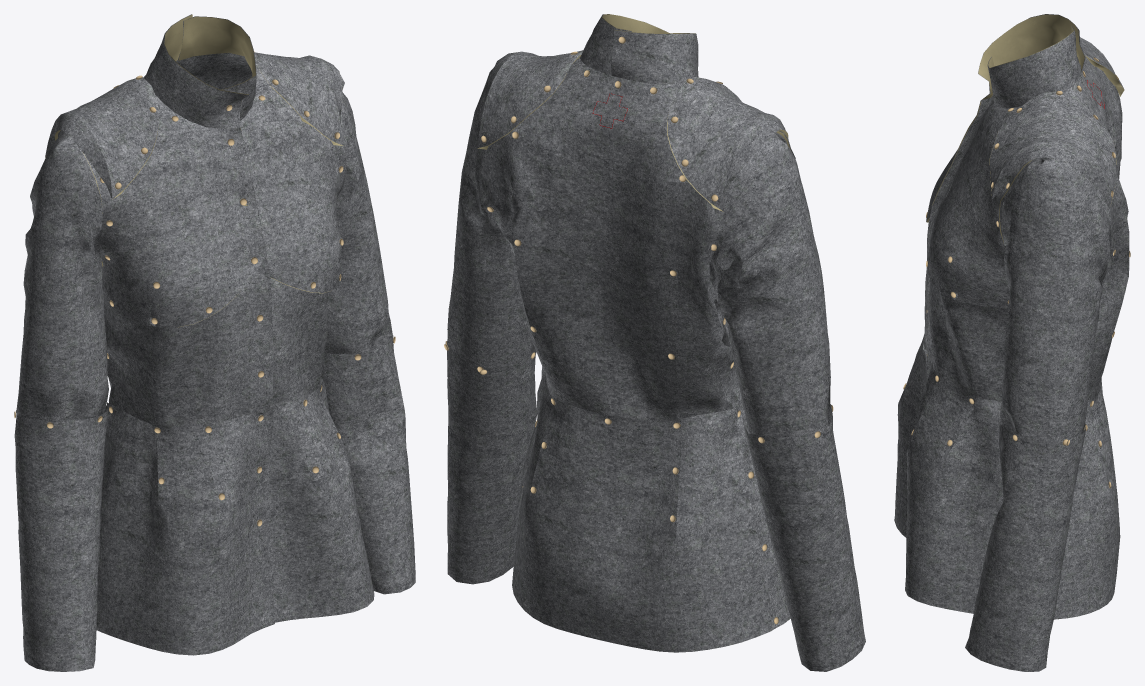
3 views of the same model, side by side, from view 1: azimuth 30°, elevation 25°; view 2: azimuth 150°, elevation 25°; view 3: azimuth 270°, elevation 25° (orthographic). The views are drawn at different scales.
Visible parts, largest first — view 1: Pattern_2297772, Pattern_2283038, Pattern_448303, Pattern_455642, Pattern_2297771, Pattern_2264827, Pattern_2283037, Pattern_455641, Pattern_448302, Pattern_2264826, Pattern_577265, Pattern_2233711 (+6 smaller); view 2: Pattern_2248002, Pattern_2237982, Pattern_448303, Pattern_455642, Pattern_455641, Pattern_448302, Pattern_577265, Pattern_577264, Pattern_2233711, Pattern_2297772, Pattern_583040, Pattern_2233712 (+3 smaller); view 3: Pattern_448302, Pattern_2297771, Pattern_455641, Pattern_2283037, Pattern_2237982, Pattern_2264826, Pattern_2248002, Pattern_577264, Pattern_2233712, Pattern_2233714, Pattern_2297772, Pattern_583039 (+3 smaller).
Part boxes in pixels (x1,y1,x2,y2): Pattern_2297772: [96, 402, 274, 655]; Pattern_2283038: [84, 95, 266, 327]; Pattern_448303: [16, 131, 108, 421]; Pattern_455642: [14, 405, 108, 671]; Pattern_2297771: [269, 378, 374, 622]; Pattern_2264827: [76, 134, 273, 425]; Pattern_2283037: [240, 64, 346, 292]; Pattern_455641: [321, 335, 415, 594]; Pattern_448302: [324, 74, 392, 353]; Pattern_2264826: [270, 277, 328, 404]; Pattern_577265: [64, 77, 159, 199]; Pattern_2233711: [144, 14, 248, 129]; Pattern_2248002: [480, 58, 733, 421]; Pattern_2237982: [512, 372, 773, 652]; Pattern_448303: [714, 133, 830, 437]; Pattern_455642: [742, 404, 865, 671]; Pattern_455641: [447, 339, 537, 584]; Pattern_448302: [447, 67, 534, 367]; Pattern_577265: [667, 77, 772, 211]; Pattern_577264: [477, 50, 583, 148]; Pattern_2233711: [611, 30, 698, 84]; Pattern_2297772: [731, 355, 790, 629]; Pattern_583040: [722, 115, 786, 210]; Pattern_2233712: [580, 14, 666, 75]; Pattern_448302: [1000, 157, 1111, 439]; Pattern_2297771: [905, 340, 1003, 613]; Pattern_455641: [965, 418, 1085, 671]; Pattern_2283037: [927, 102, 1027, 308]; Pattern_2237982: [1054, 378, 1120, 619]; Pattern_2264826: [928, 157, 1041, 401]; Pattern_2248002: [1063, 56, 1129, 399]; Pattern_577264: [990, 91, 1116, 208]; Pattern_2233712: [987, 25, 1081, 108]; Pattern_2233714: [978, 14, 1084, 99]; Pattern_2297772: [894, 334, 935, 537]; Pattern_583039: [992, 141, 1109, 208].
Bounding box in the file's own units: 0.5077 × 0.7427 × 0.2838.
Materials: 4 (3 with a texture image).
